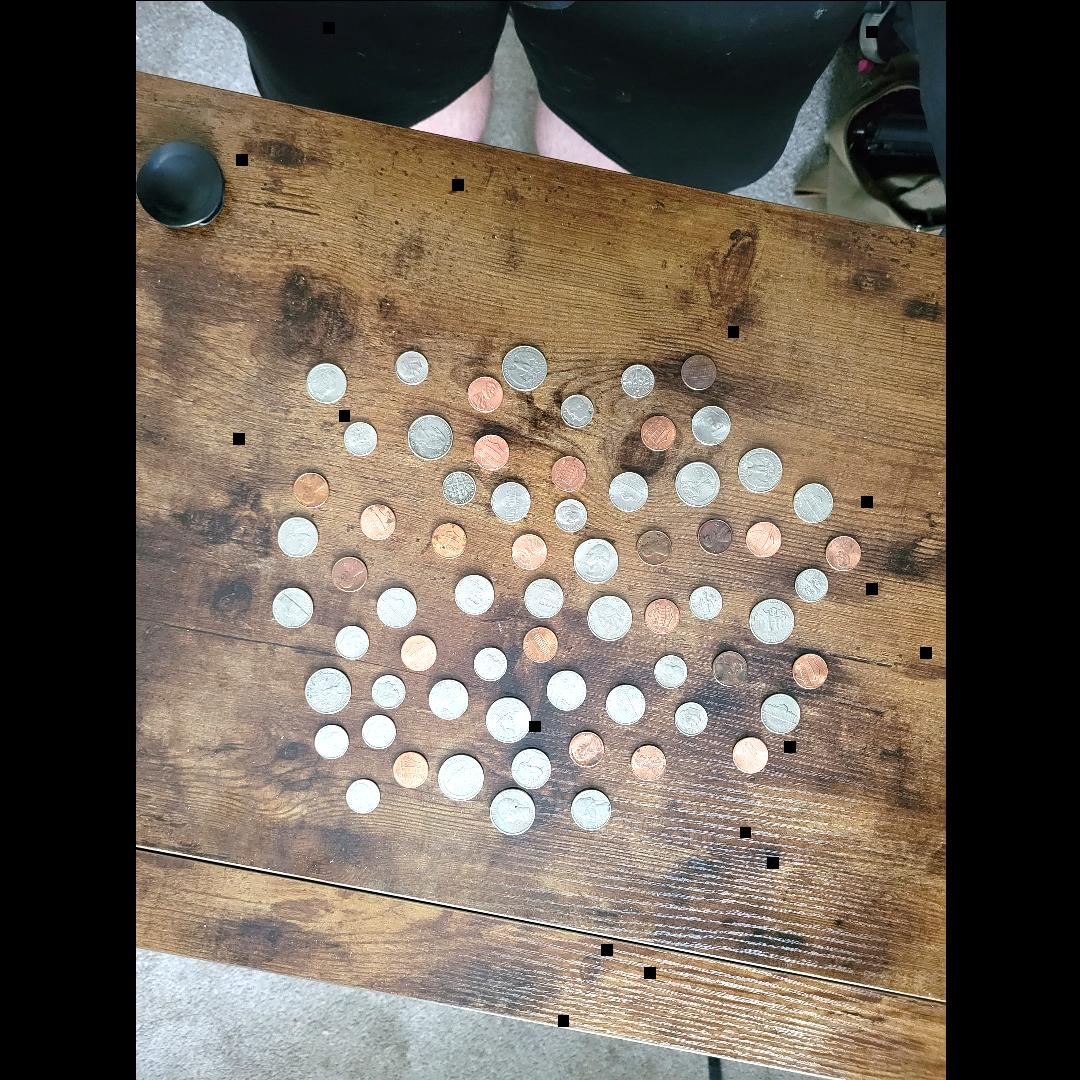Dime: (342, 420, 377, 456), (471, 646, 507, 681), (346, 777, 380, 813), (313, 723, 347, 759), (370, 672, 404, 708), (361, 713, 395, 749), (620, 364, 654, 399), (395, 349, 429, 384), (689, 584, 722, 620), (334, 625, 368, 659), (441, 471, 475, 505), (794, 567, 827, 601), (674, 701, 706, 735), (654, 653, 686, 687), (560, 394, 592, 426), (552, 498, 584, 530)
Nickel: (271, 586, 313, 628), (428, 676, 468, 719), (276, 516, 318, 556), (690, 404, 730, 446), (609, 470, 649, 512), (570, 788, 610, 830), (546, 668, 586, 710), (306, 362, 346, 404), (452, 574, 494, 614), (605, 682, 645, 724), (510, 748, 550, 788), (760, 693, 800, 733), (374, 586, 414, 626), (523, 577, 563, 617), (792, 482, 832, 522), (490, 481, 530, 521)
Penny: (678, 352, 716, 392), (465, 374, 502, 414), (791, 651, 829, 689), (638, 414, 675, 451), (548, 456, 586, 492), (746, 520, 782, 558), (390, 751, 428, 787), (399, 634, 435, 670), (568, 730, 604, 766), (731, 736, 767, 772), (643, 596, 679, 632), (471, 432, 507, 468), (522, 625, 558, 661), (711, 650, 747, 686), (359, 503, 395, 539), (634, 528, 670, 564), (430, 522, 466, 558), (630, 742, 664, 780), (291, 472, 329, 506), (698, 518, 733, 554), (331, 555, 366, 591), (510, 533, 545, 569), (824, 534, 858, 570)
Quarter: (672, 461, 720, 506), (304, 667, 349, 715), (586, 594, 632, 640), (488, 788, 534, 834), (501, 344, 546, 389), (486, 696, 530, 742), (573, 535, 617, 581), (406, 414, 452, 458), (438, 753, 482, 799), (747, 600, 793, 642), (738, 446, 780, 491)
